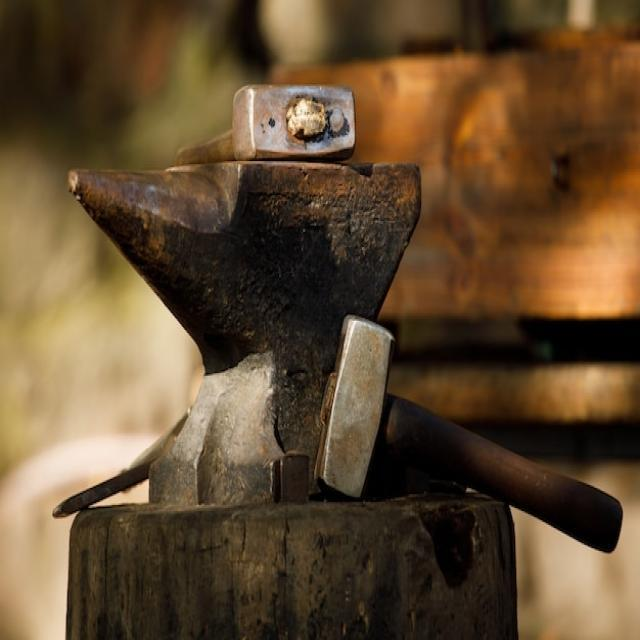hammer: (311, 306, 627, 560), (168, 68, 368, 172)
